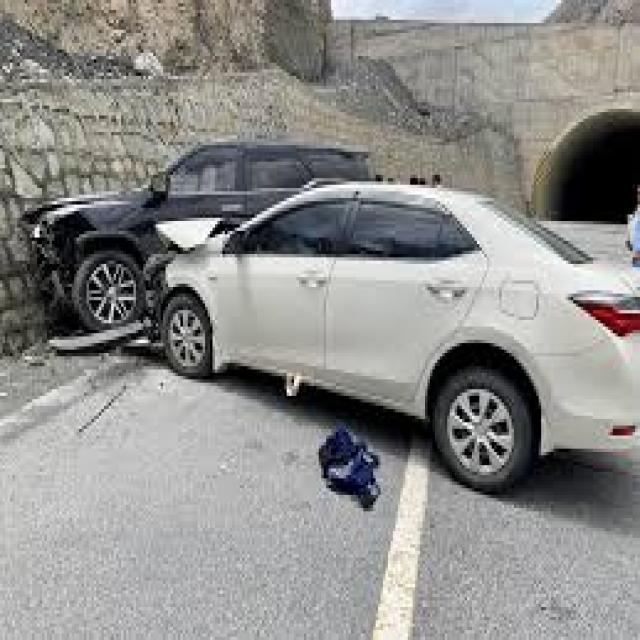accident: (25, 110, 438, 439)
